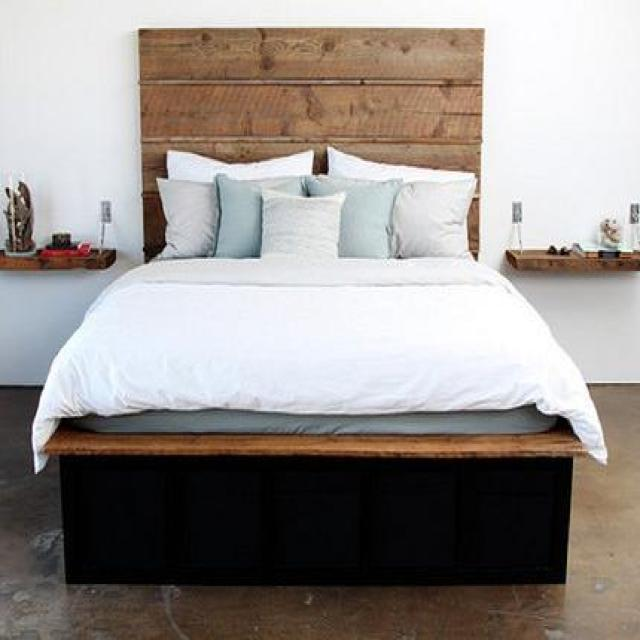bed: (53, 24, 585, 592)
